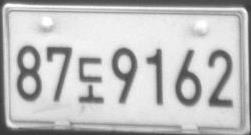1: (143, 47, 172, 105)
2: (207, 48, 233, 107)
6: (174, 48, 201, 107)
7: (45, 46, 73, 102)
8: (15, 44, 42, 102)
9: (110, 47, 138, 104)
도: (77, 56, 104, 105)
